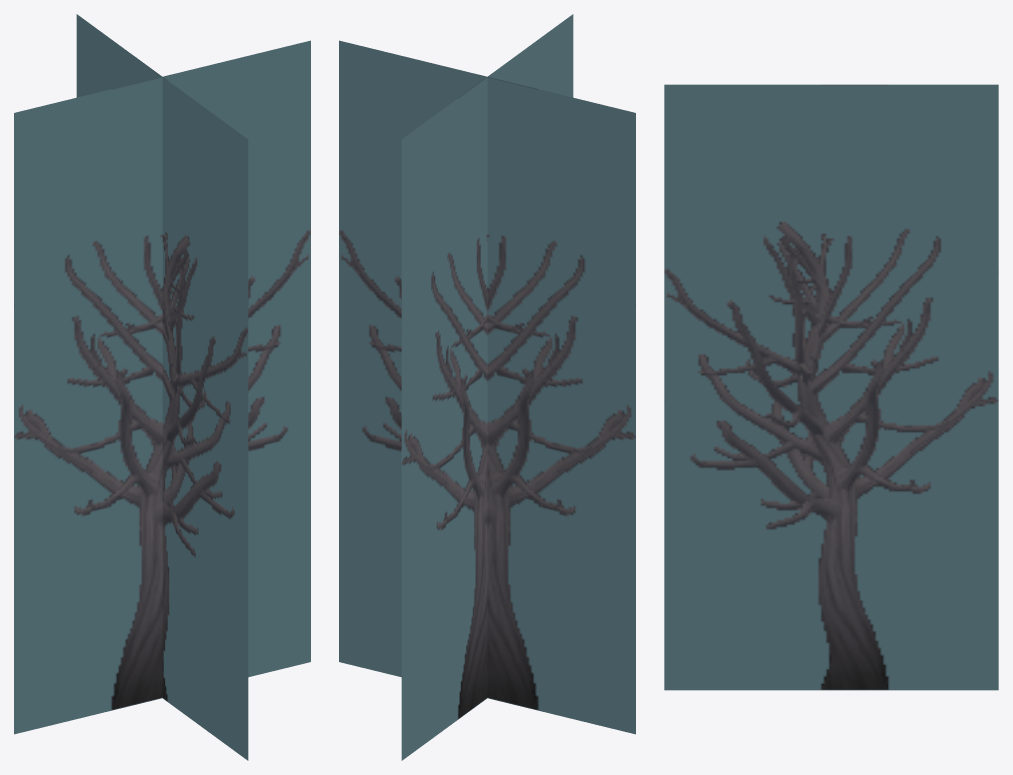
Rendered from deadtree_1_3.glb.
3 renders of one model, left to right at view 1: azimuth 30°, elevation 25°; view 2: azimuth 150°, elevation 25°; view 3: azimuth 270°, elevation 25°, orthographic. The views are drawn at different scales.
Parts seen in each view (by area): view 1: deadtree_1; view 2: deadtree_1; view 3: deadtree_1.
Part boxes in pixels (box(x1,y1,x2,y2)): deadtree_1: box(14, 14, 310, 760); deadtree_1: box(339, 14, 635, 760); deadtree_1: box(664, 84, 998, 690).
Bounding box in the file's own units: 6.15 × 12.3 × 6.15.
1 material, 1 textured.
